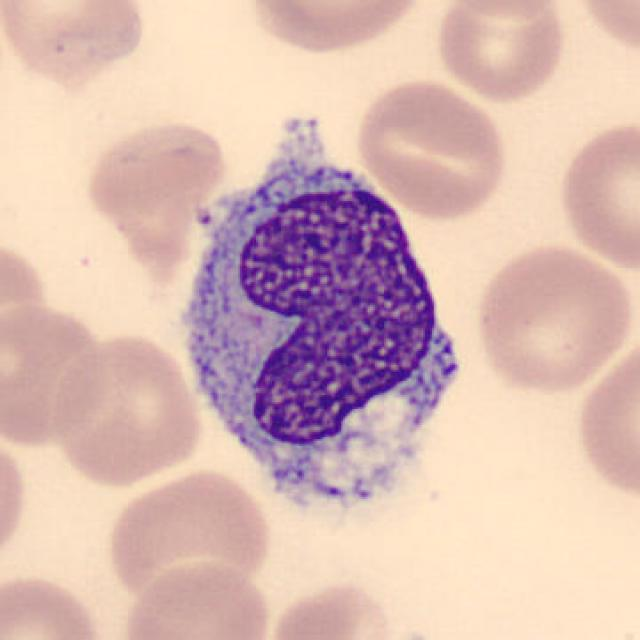Monocyte: (164, 118, 478, 538)
RBC: (469, 238, 635, 397), (48, 328, 206, 490), (82, 115, 229, 282), (103, 466, 274, 606), (350, 76, 512, 222), (0, 298, 112, 451), (430, 0, 571, 104), (553, 115, 640, 273), (116, 555, 276, 640), (0, 0, 151, 88), (571, 328, 638, 506), (240, 0, 430, 56), (261, 576, 401, 640), (0, 569, 114, 640), (0, 245, 50, 385), (0, 423, 32, 577), (567, 0, 640, 58), (433, 0, 574, 19)
